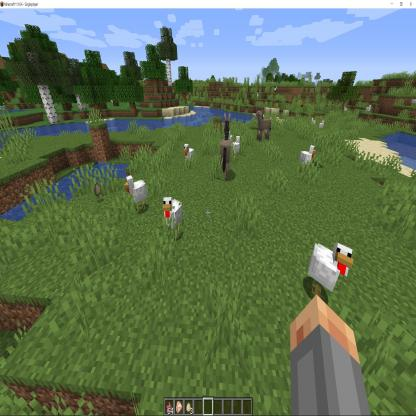minecraft-pigs: (184, 78, 221, 192)
